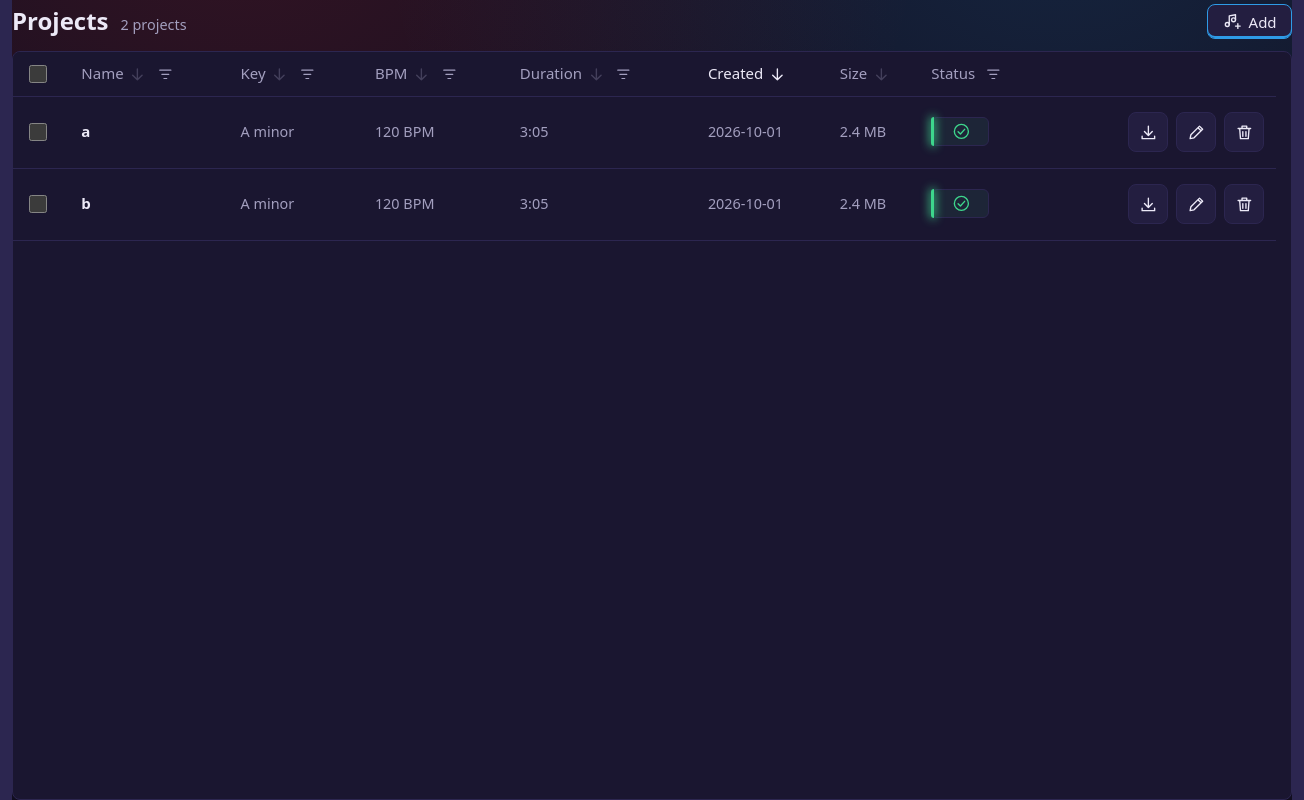
Test: Projects paging and reload › reloads in place: rows stay on screen until the new data arrives
Expected: the link "a" is shown, [81,121,90,141]
Click the button named "Rename a": coordinates (1196, 132) [1176,112,1216,152]
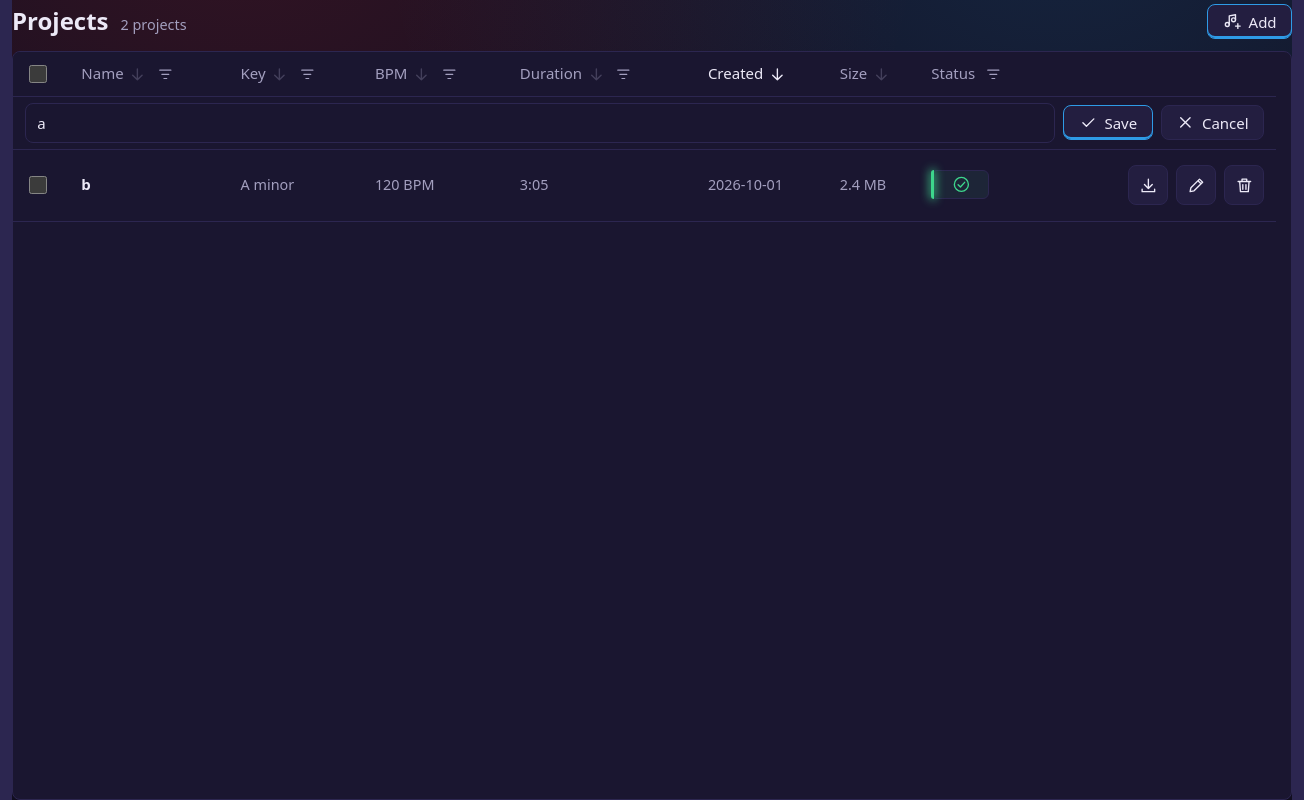
Click the button "Save": coordinates (1108, 123) [1063,105,1153,140]
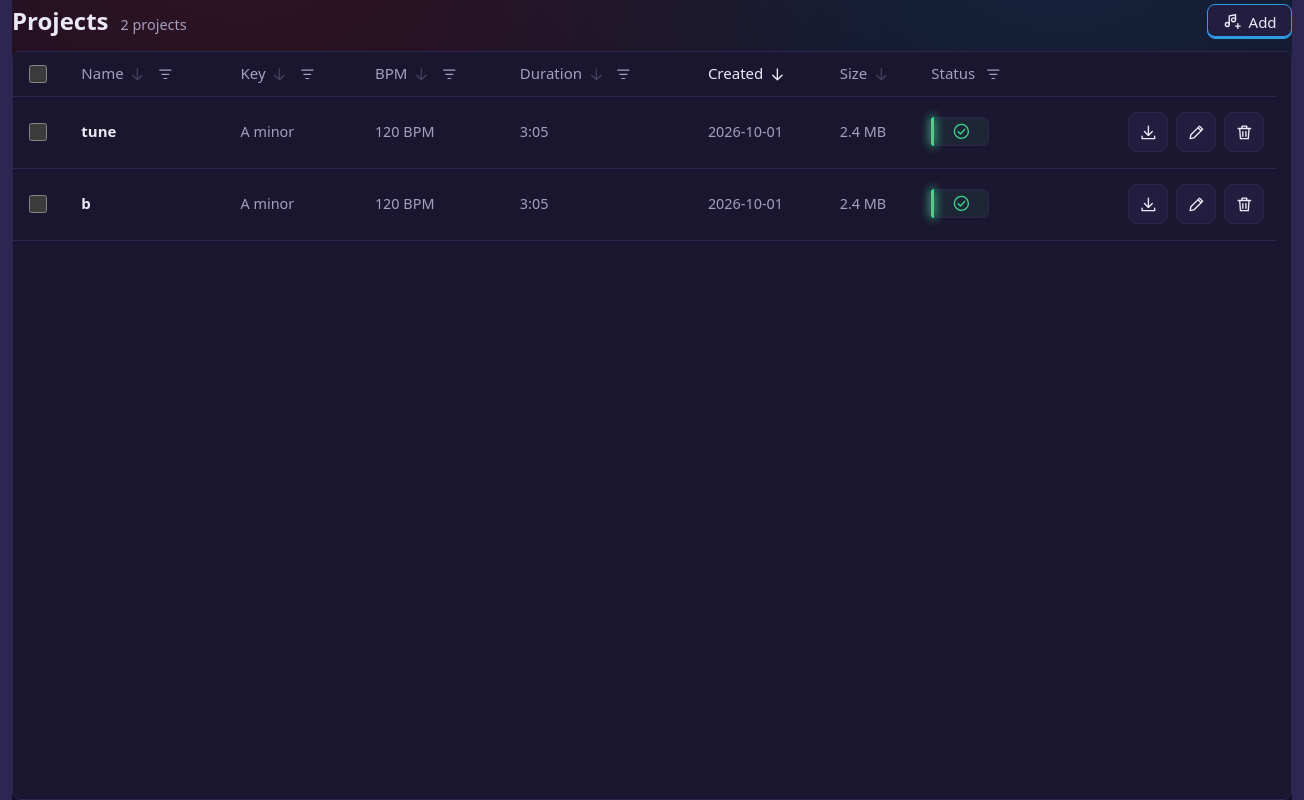
Expected: the link "b" is shown, [81,193,91,213]
Expected: the link "tune" is shown, [81,121,116,141]
